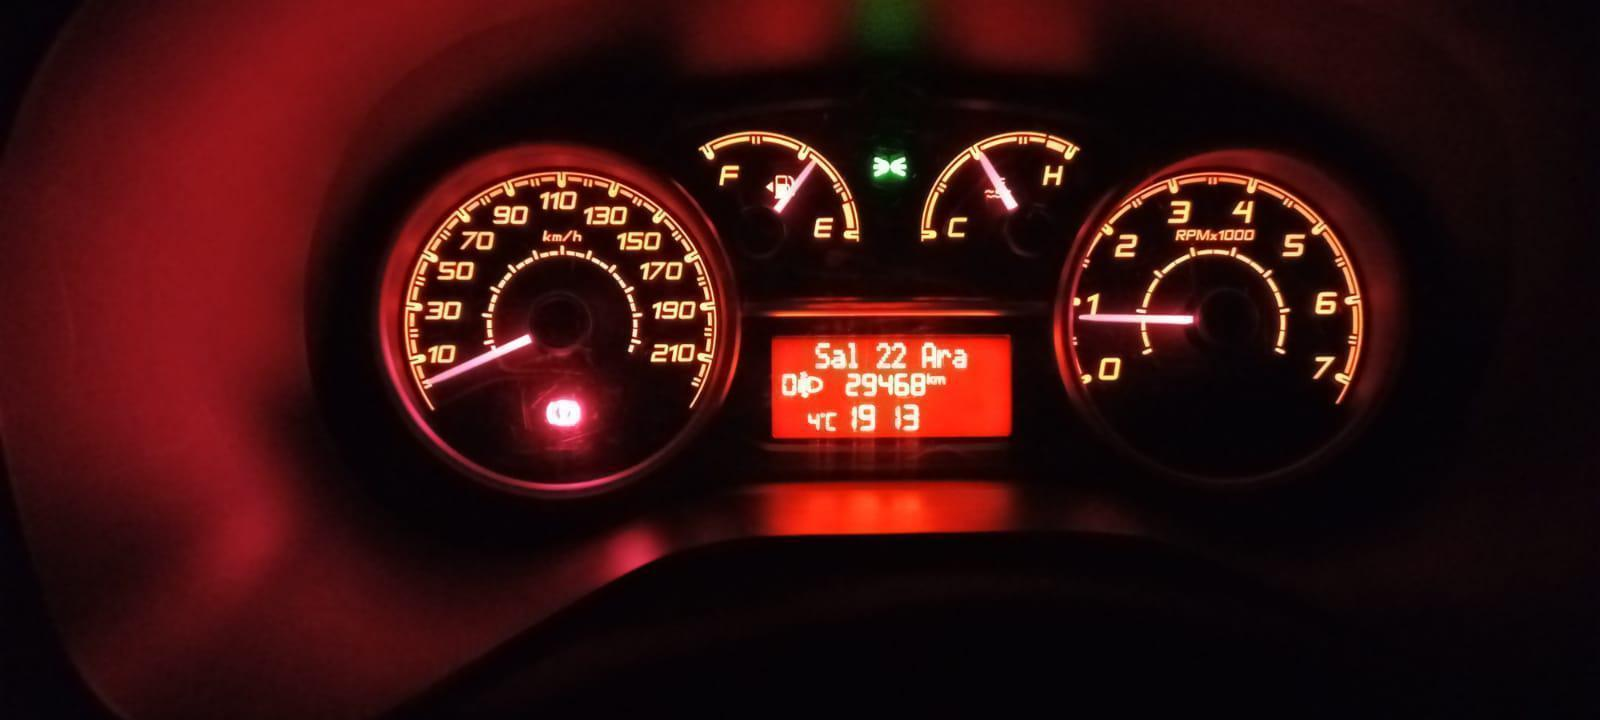0: (780, 371, 796, 396)
1: (893, 402, 902, 433), (849, 403, 857, 432)
2: (891, 340, 906, 369), (874, 341, 890, 369), (845, 372, 860, 397)
3: (902, 402, 920, 432)
4: (878, 372, 893, 396), (807, 408, 819, 432)
6: (894, 371, 909, 396)
8: (911, 371, 927, 397)
9: (858, 402, 876, 431), (860, 370, 876, 396)
X: (815, 341, 830, 370), (921, 341, 936, 368), (953, 346, 969, 369), (847, 340, 859, 368), (936, 347, 951, 368), (832, 347, 847, 368), (826, 411, 839, 433), (934, 374, 946, 385), (926, 371, 934, 385)
odometer: (767, 332, 1015, 442)
